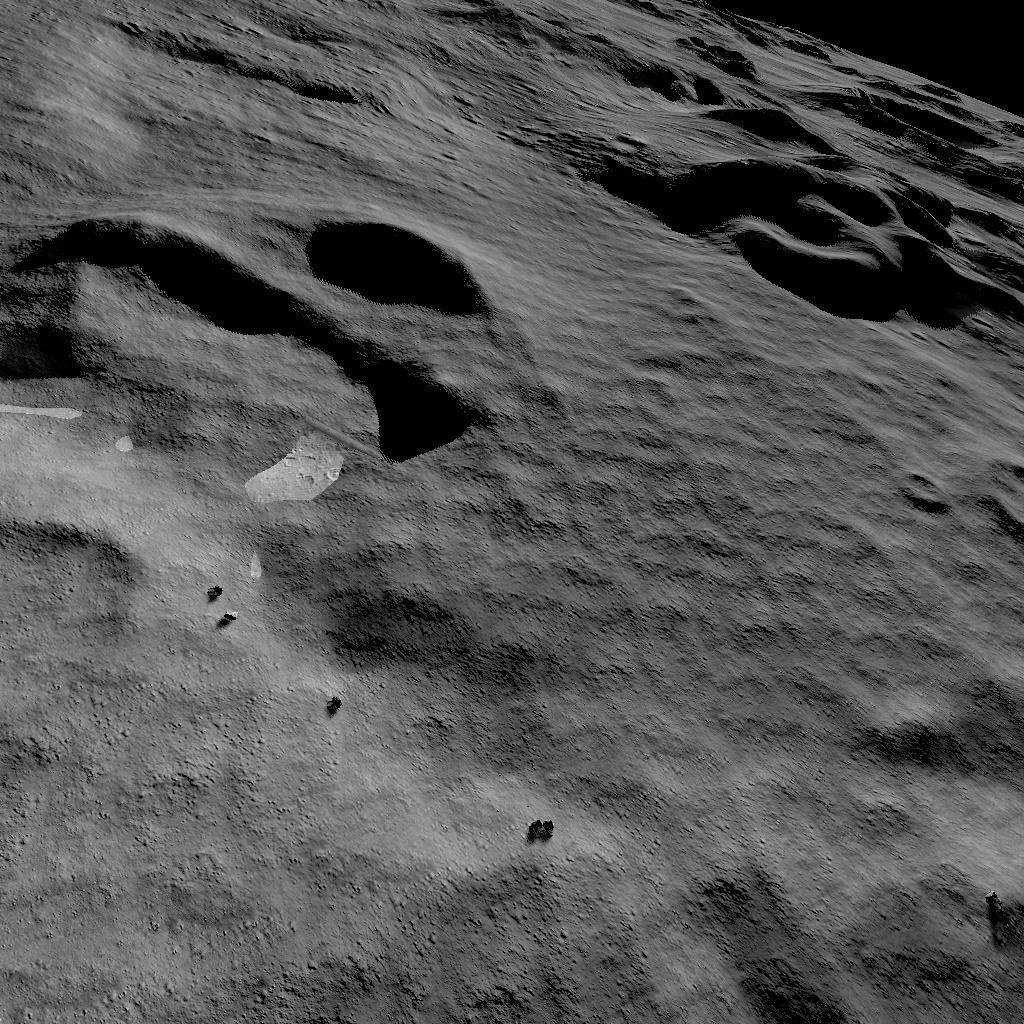Crater: (533, 38, 1024, 346), (0, 204, 516, 494), (0, 518, 151, 780), (881, 452, 1024, 534)
Plan surface: (561, 368, 869, 1024), (0, 792, 506, 1024)
